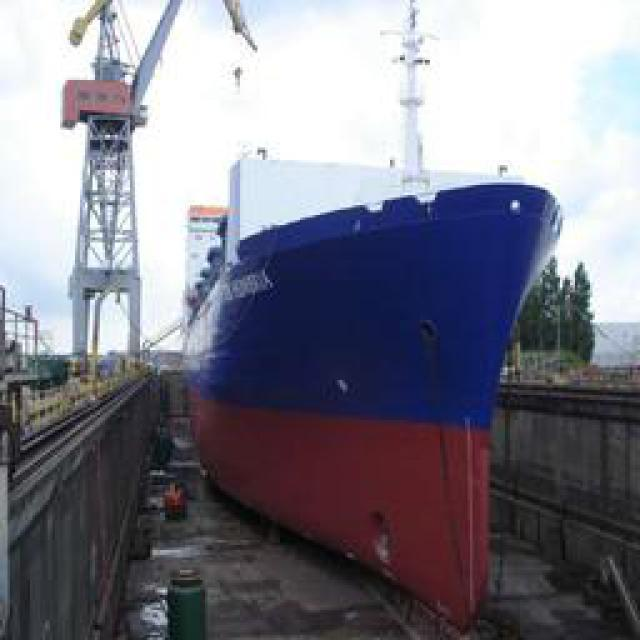Ship: (168, 2, 574, 636)
